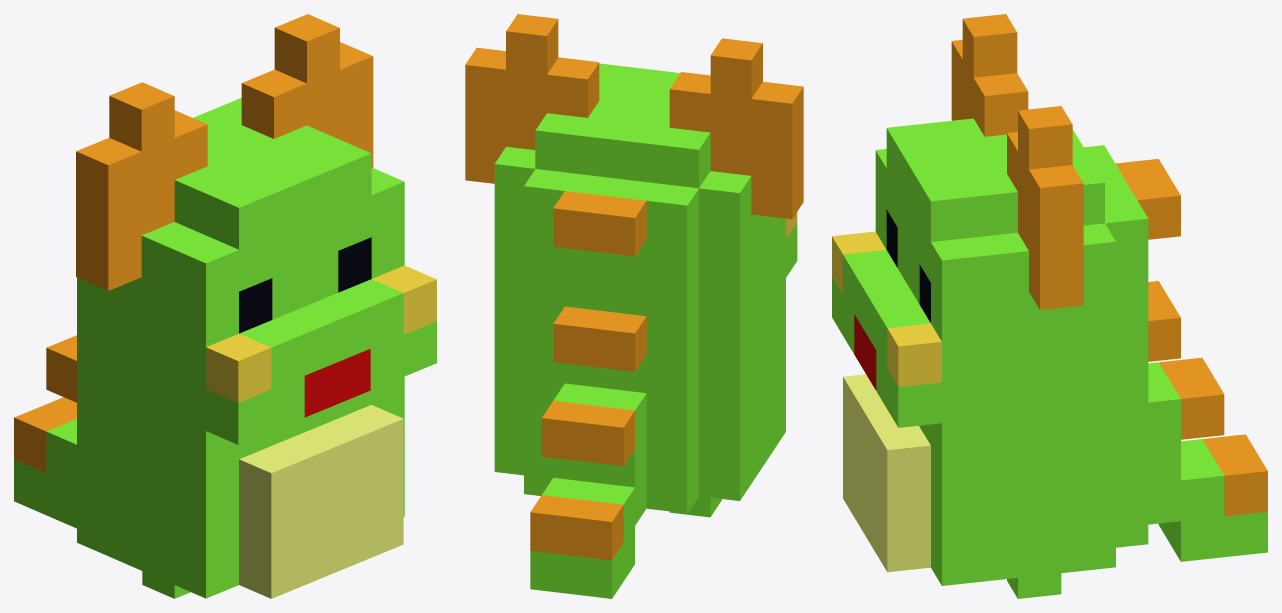
Rendered from dyeoV.fbx.
3 renders of one model, left to right at view 1: azimuth 30°, elevation 25°; view 2: azimuth 150°, elevation 25°; view 3: azimuth 270°, elevation 25°, orthographic. The views are drawn at different scales.
Parts seen in each view (by area): view 1: dyeoboong; view 2: dyeoboong; view 3: dyeoboong.
Part boxes in pixels (x1,y1,x2,y2): dyeoboong: (14, 14, 436, 598); dyeoboong: (465, 14, 803, 598); dyeoboong: (832, 14, 1267, 598).
Bounding box in the file's own units: 0.8 × 1.2 × 0.9708.
